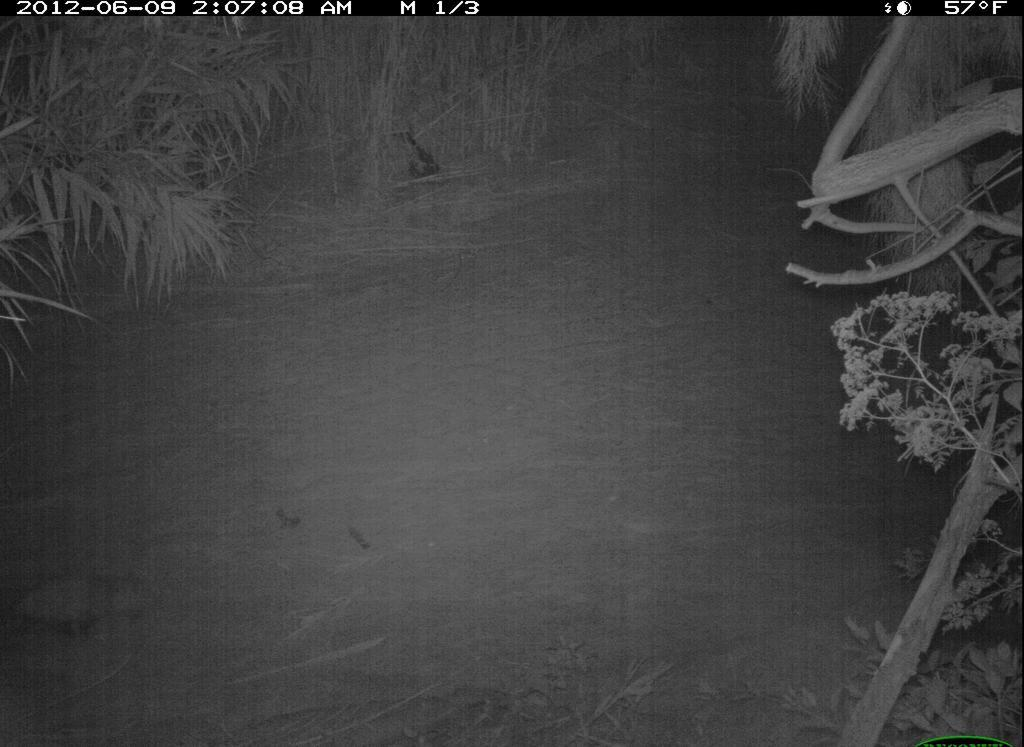opossum: (1, 555, 172, 650)
